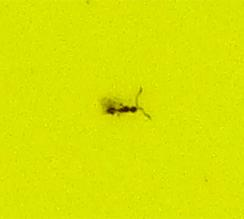Hymenoptera: (100, 100, 144, 119)
